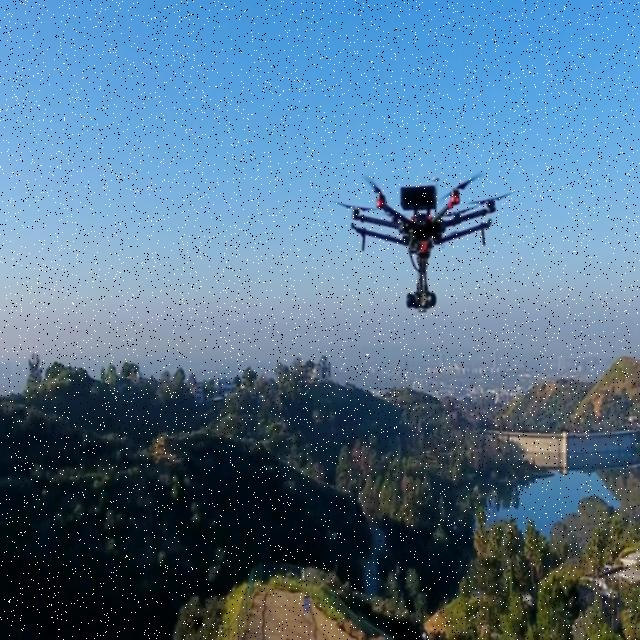UAV: (348, 171, 498, 313)
